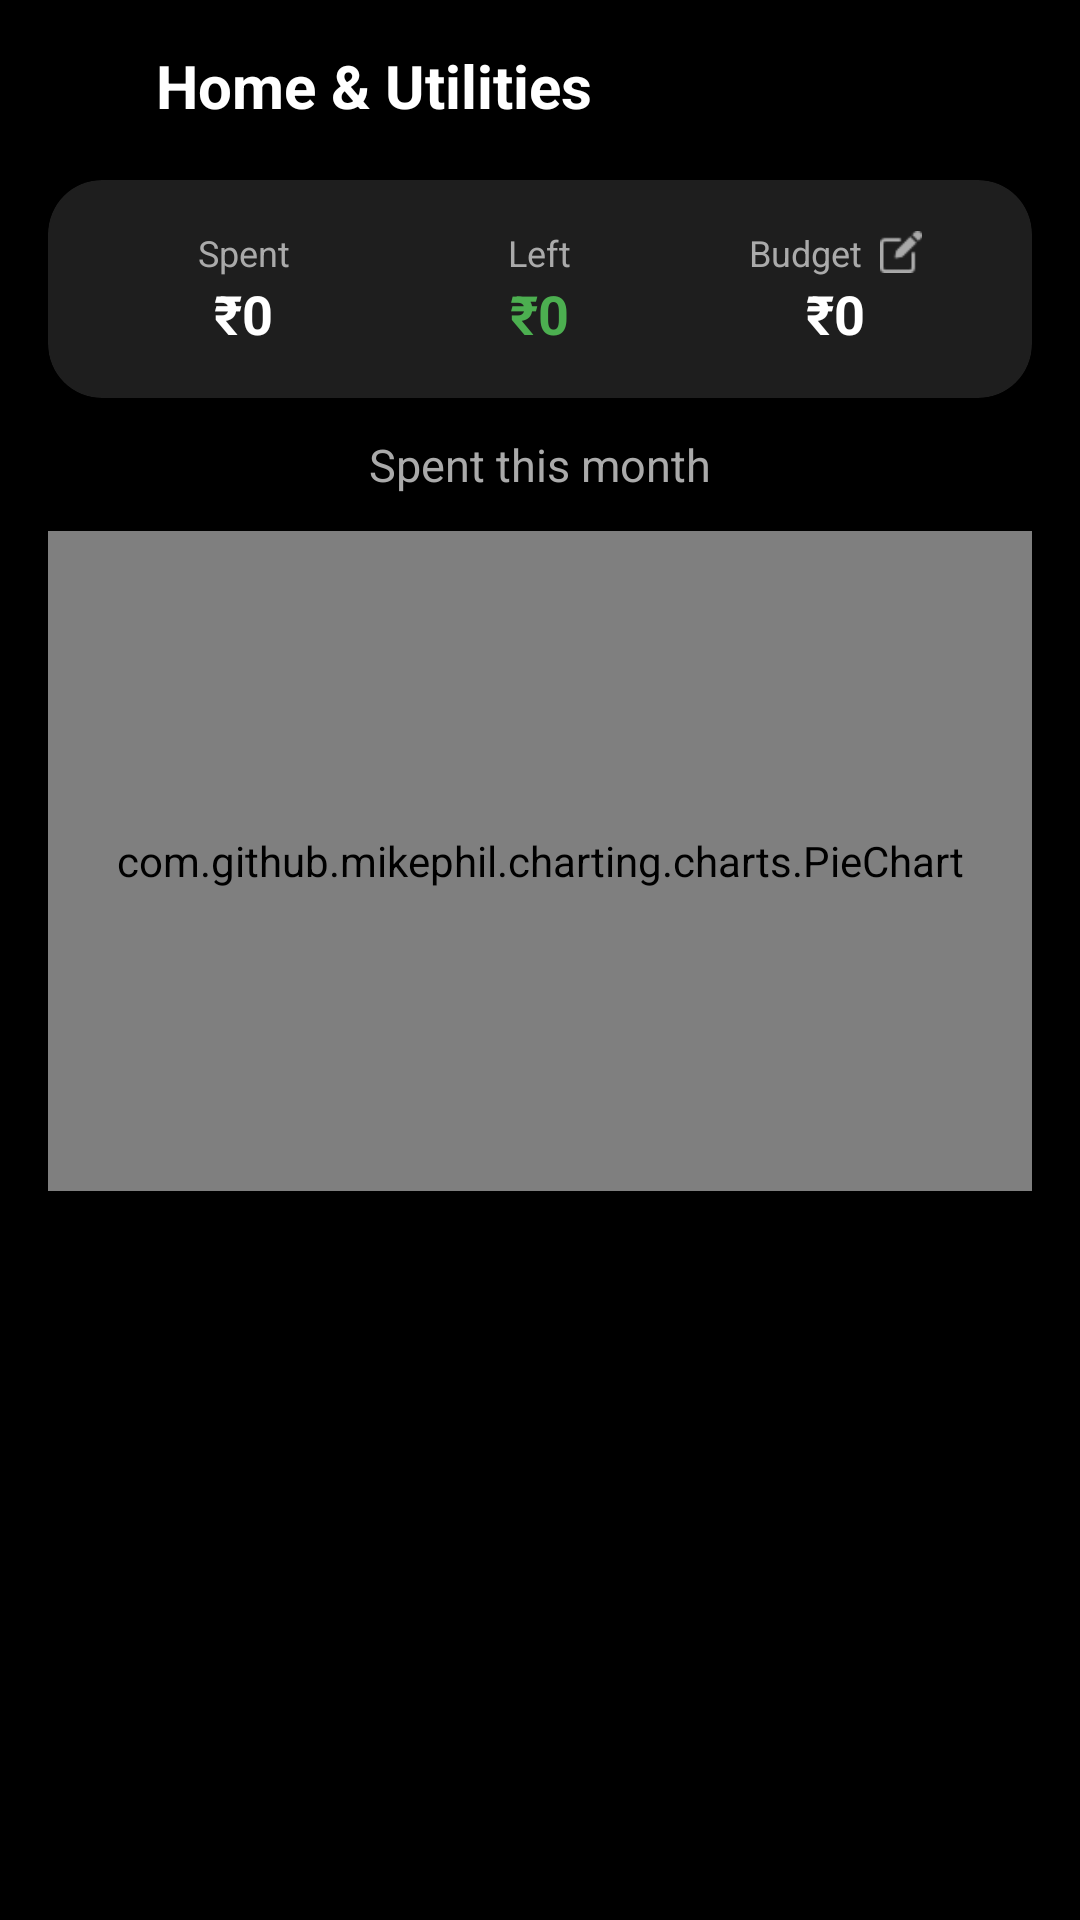

Screen size 1080 × 1920. Icon name, then its box in pixels as (x1, y1, x2, y2):
edit: (880, 231, 922, 273)
